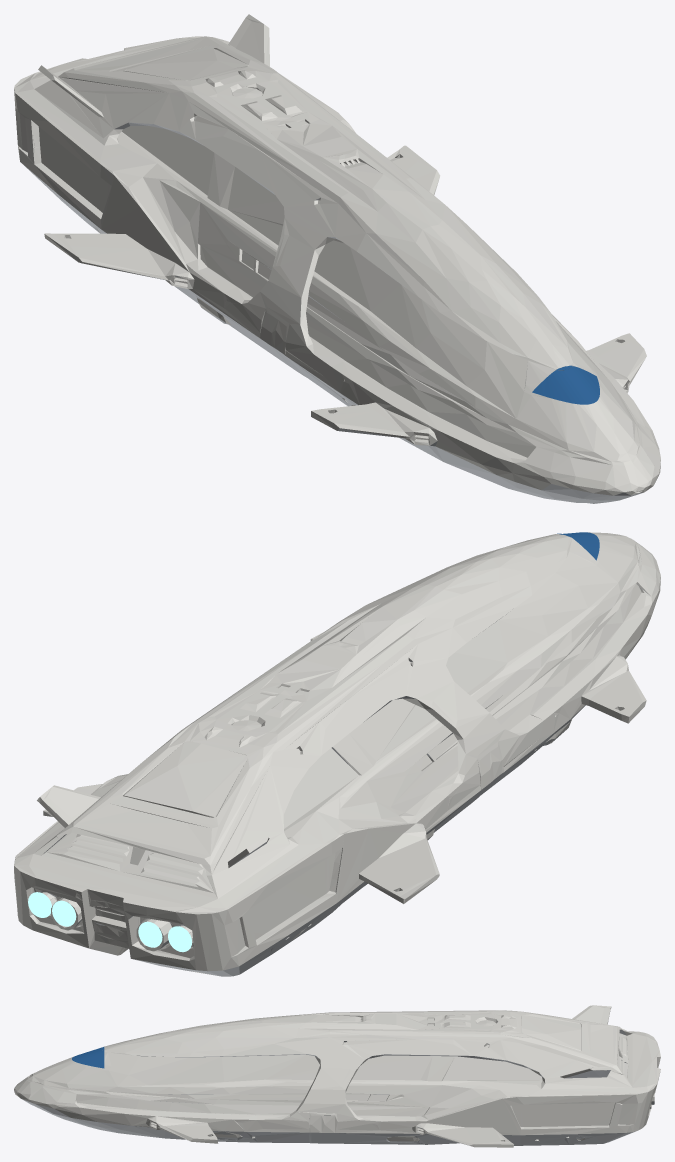
The model's file is orca.glb.
The picture shows the model from 3 angles, top to bottom: view 1: azimuth 30°, elevation 25°; view 2: azimuth 150°, elevation 25°; view 3: azimuth 270°, elevation 25°; orthographic projection. The views are drawn at different scales.
Parts seen in each view (by area): view 1: orca; view 2: orca; view 3: orca.
Part boxes in pixels (bbox=[...]): orca: bbox=[14, 14, 660, 503]; orca: bbox=[14, 532, 660, 976]; orca: bbox=[14, 1005, 660, 1147].
Bounding box in the file's own units: 50.78 × 22.68 × 130.
